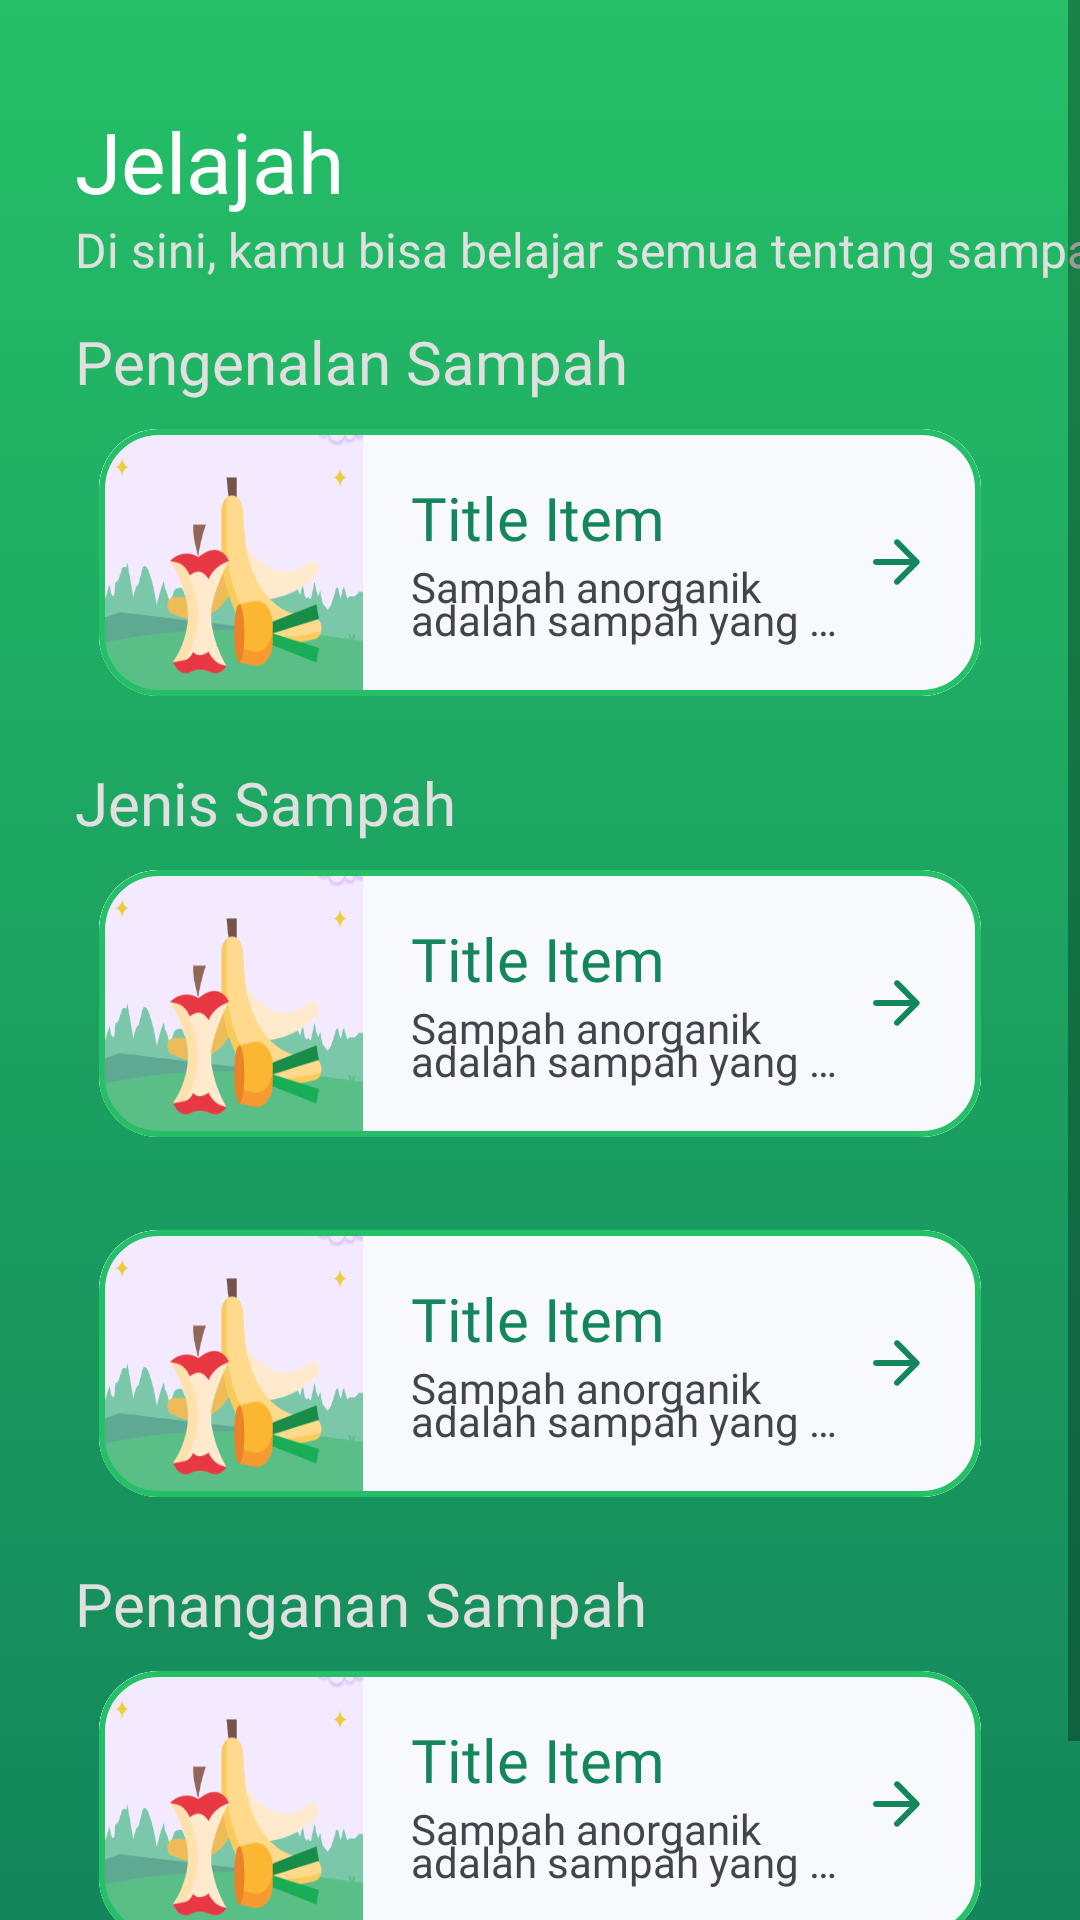

Screen size 1080px x 1920px. Icon name, then its box in pixels as (x1, y1, x2, y2):
arrow forward: (873, 539, 920, 585), (873, 980, 920, 1026), (873, 1340, 920, 1386), (873, 1781, 920, 1827)
